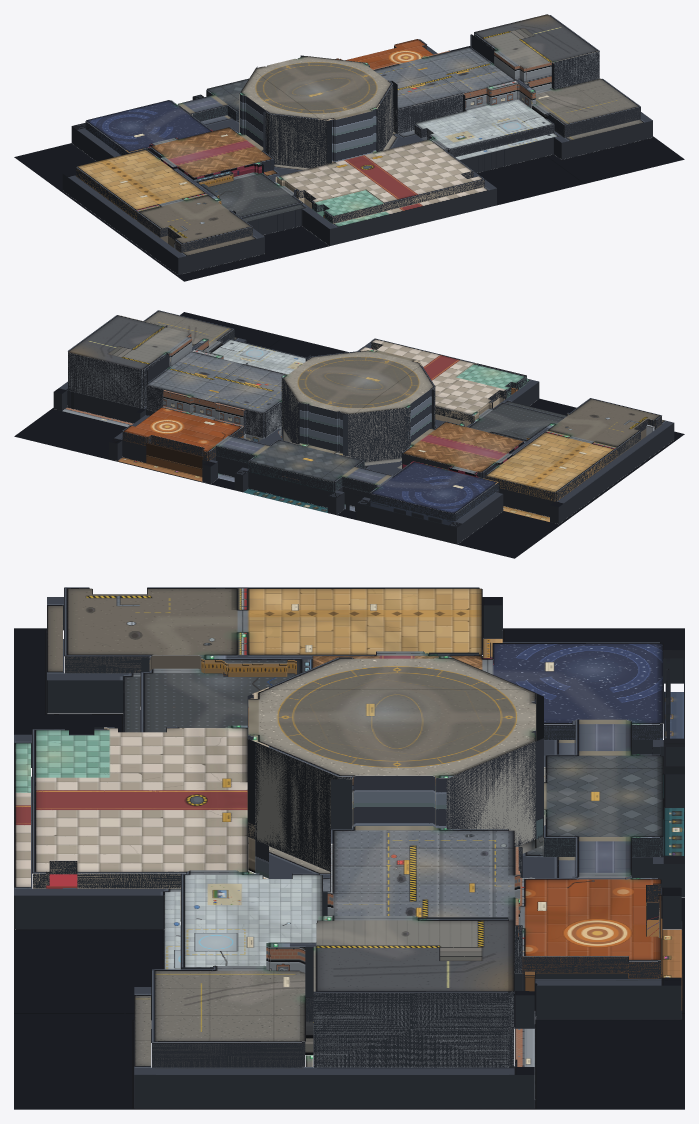
Rendered from museum.glb.
3 views of the same model, one above another, from view 1: azimuth 30°, elevation 25°; view 2: azimuth 150°, elevation 25°; view 3: azimuth 270°, elevation 25° (orthographic). The views are drawn at different scales.
Visible parts, largest first — view 1: hullside, decor, roof_rotunde, roof_foyer, cap, roof_technikhalle, roof_aegypten, roof_hof, roof_werkstatt, skirt_6.80, roof_galerie, roof_planetarium (+22 smaller); view 2: hullside, decor, roof_rotunde, roof_technikhalle, roof_aegypten, skirt_6.80, roof_hof, roof_nische, roof_planetarium, roof_galerie, roof_foyer, cap (+22 smaller); view 3: decor, hullside, roof_rotunde, roof_foyer, cap, roof_aegypten, roof_technikhalle, skirt_5.60, roof_hof, roof_nische, roof_planetarium, roof_haustechnik (+23 smaller).
Part boxes in pixels (left/top/right/bottom): hullside: left=62, top=97, right=652, bottom=274; decor: left=14, top=46, right=684, bottom=281; roof_rotunde: left=240, top=56, right=392, bottom=120; roof_foyer: left=277, top=139, right=484, bottom=203; cap: left=63, top=46, right=652, bottom=257; roof_technikhalle: left=373, top=47, right=535, bottom=109; roof_aegypten: left=77, top=149, right=233, bottom=211; roof_hof: left=474, top=14, right=599, bottom=68; roof_werkstatt: left=415, top=99, right=554, bottom=149; skirt_6.80: left=265, top=84, right=393, bottom=168; roof_galerie: left=149, top=127, right=273, bottom=177; roof_planetarium: left=86, top=100, right=212, bottom=152; hullside: left=53, top=340, right=674, bottom=544; decor: left=14, top=312, right=684, bottom=558; roof_rotunde: left=282, top=350, right=434, bottom=414; roof_technikhalle: left=147, top=338, right=286, bottom=413; roof_aegypten: left=486, top=422, right=617, bottom=492; skirt_6.80: left=281, top=377, right=435, bottom=462; roof_hof: left=68, top=315, right=191, bottom=370; roof_nische: left=215, top=435, right=392, bottom=485; roof_planetarium: left=370, top=461, right=498, bottom=513; roof_galerie: left=402, top=421, right=523, bottom=473; roof_foyer: left=358, top=338, right=508, bottom=415; cap: left=54, top=337, right=673, bottom=527; decor: left=14, top=628, right=684, bottom=1109; hullside: left=14, top=597, right=684, bottom=1108; roof_rotunde: left=248, top=656, right=535, bottom=777; roof_foyer: left=32, top=725, right=247, bottom=873; cap: left=14, top=597, right=684, bottom=1074; roof_aegypten: left=201, top=587, right=481, bottom=674; roof_technikhalle: left=266, top=826, right=520, bottom=949; skirt_5.60: left=313, top=991, right=513, bottom=1067; roof_hof: left=313, top=915, right=513, bottom=992; roof_nische: left=544, top=719, right=662, bottom=877; roof_planetarium: left=490, top=642, right=662, bottom=724; roof_haustechnik: left=64, top=587, right=248, bottom=657.
Size of the model in its own units: 53.5 by 6.83 by 31.5.
Materials: 419 (415 with a texture image).
